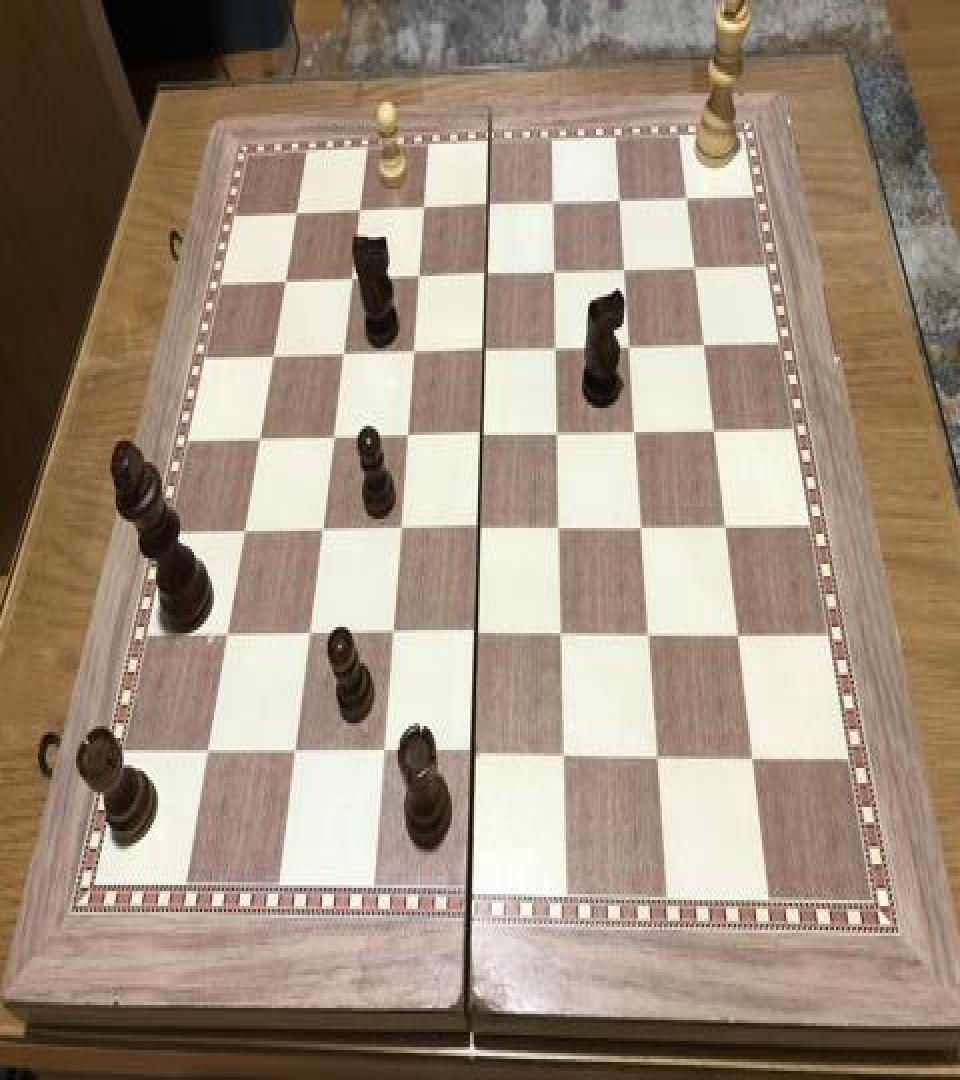xcorner: (233, 514, 257, 551), (728, 616, 752, 653), (640, 616, 664, 653), (648, 739, 672, 776), (555, 739, 579, 776), (676, 180, 700, 216), (609, 183, 633, 219), (543, 184, 567, 220), (413, 190, 437, 226), (349, 194, 373, 230), (286, 196, 310, 232), (684, 249, 708, 285), (614, 252, 638, 288), (544, 254, 568, 290), (475, 256, 499, 292), (341, 261, 365, 297), (275, 264, 299, 300), (693, 326, 717, 362), (546, 330, 570, 366), (473, 333, 497, 369), (402, 334, 426, 370), (332, 336, 356, 372), (262, 339, 286, 375), (625, 414, 649, 450), (548, 416, 572, 452), (471, 417, 495, 453), (396, 418, 420, 454), (322, 420, 346, 456), (249, 422, 273, 458), (715, 508, 739, 544), (632, 508, 656, 544), (550, 510, 574, 546), (469, 512, 493, 548), (389, 512, 413, 548), (311, 513, 335, 549), (552, 618, 576, 654), (466, 618, 490, 654), (382, 618, 406, 654), (298, 618, 322, 654), (216, 618, 240, 654), (743, 741, 767, 777), (463, 738, 487, 774), (373, 738, 397, 774), (284, 736, 308, 772), (197, 735, 221, 771), (477, 188, 501, 223), (408, 260, 432, 295), (619, 329, 643, 364), (704, 413, 728, 448)
